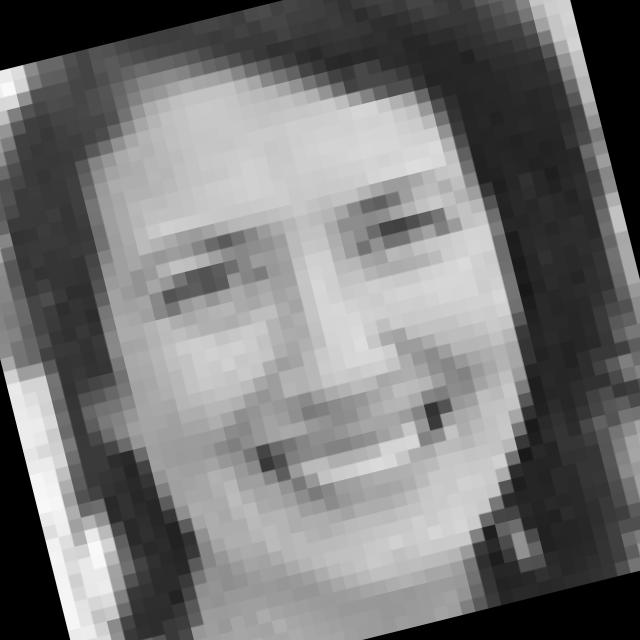happy: (98, 158, 531, 562)
